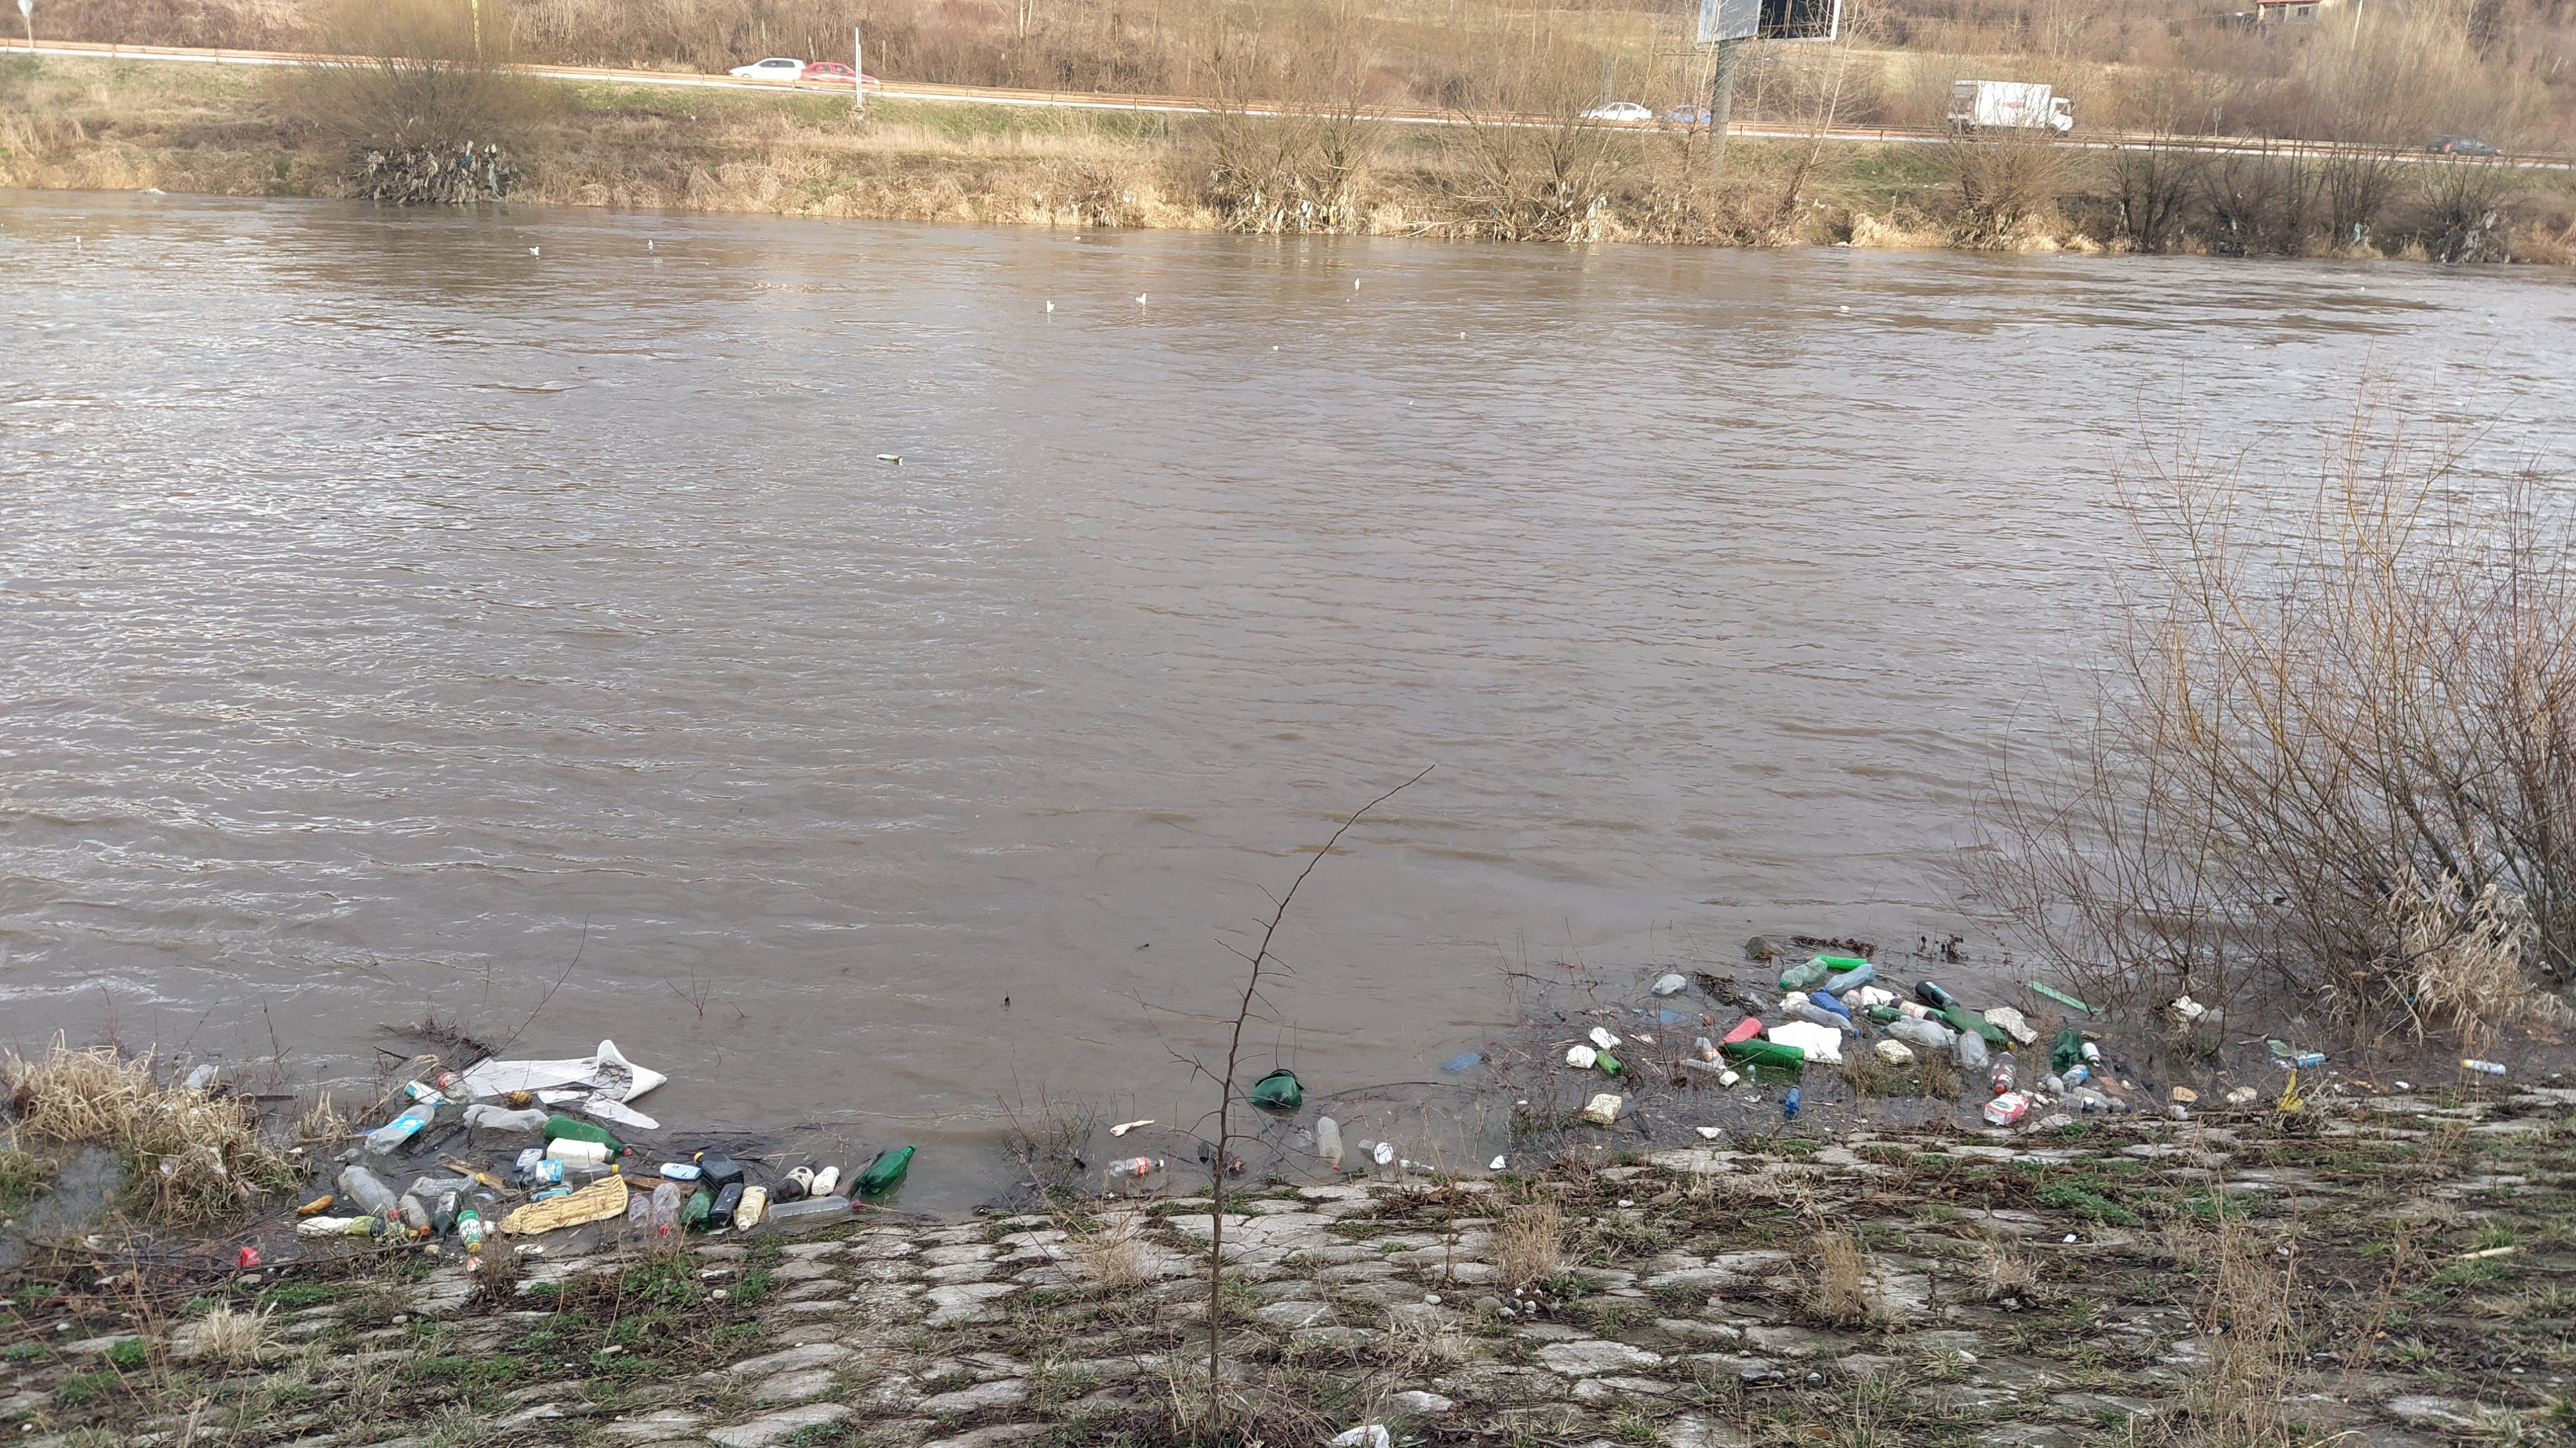Plastic Bottle: (364, 1101, 433, 1154), (543, 1115, 630, 1154), (1944, 1004, 2015, 1048), (336, 1167, 396, 1218), (858, 1144, 916, 1195), (1944, 1005, 2013, 1048), (766, 1195, 860, 1225), (1720, 1037, 1803, 1071), (1783, 1000, 1858, 1036), (464, 1101, 547, 1131), (692, 1149, 745, 1193), (1888, 997, 1955, 1030), (520, 1159, 617, 1179), (775, 1159, 816, 1202), (412, 1172, 485, 1195), (545, 1136, 612, 1161), (709, 1182, 745, 1228), (649, 1182, 679, 1236), (1780, 958, 1828, 990), (1315, 1117, 1343, 1170), (433, 1188, 462, 1239), (2074, 1087, 2132, 1112), (734, 1186, 766, 1230), (1828, 963, 1877, 991), (433, 1071, 476, 1103), (683, 1188, 715, 1230), (1108, 1156, 1164, 1179), (1914, 979, 1957, 1009), (403, 1080, 453, 1105), (1959, 1028, 1989, 1069), (1716, 1018, 1762, 1044), (1695, 1036, 1727, 1071), (1989, 1051, 2015, 1092), (400, 1195, 428, 1232), (1810, 991, 1849, 1018), (511, 1144, 545, 1174), (2058, 1094, 2109, 1113), (2052, 1028, 2079, 1066), (456, 1209, 479, 1252), (1812, 954, 1868, 970), (1651, 972, 1686, 997), (1442, 1050, 1483, 1071), (1672, 1057, 1716, 1076), (179, 1064, 212, 1089), (630, 1191, 649, 1234), (658, 1161, 701, 1179), (1594, 1048, 1619, 1074), (2061, 1064, 2088, 1087), (1867, 1005, 1902, 1021), (1783, 1083, 1799, 1113), (2042, 1071, 2063, 1092), (1840, 990, 1861, 1009), (1295, 1124, 1313, 1147), (1900, 1014, 1925, 1027), (876, 453, 902, 462), (2541, 961, 2553, 975), (2243, 345, 2254, 350), (1840, 306, 1849, 310), (2488, 313, 2496, 317), (2456, 402, 2465, 405), (655, 258, 662, 262)
